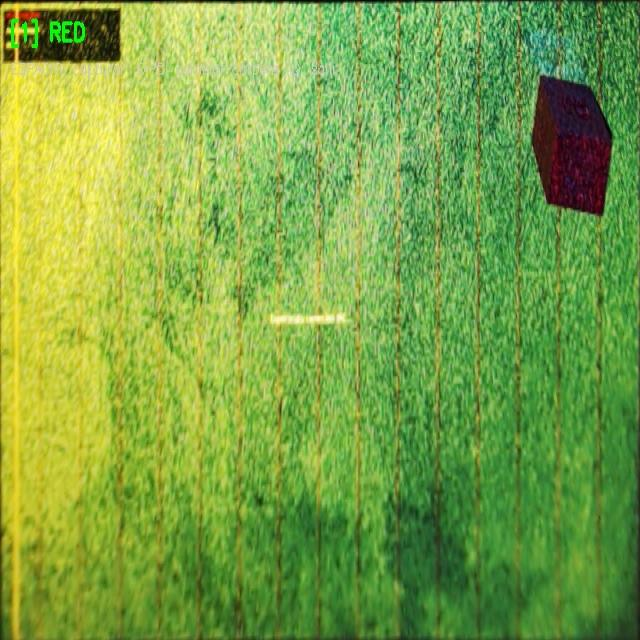red: (532, 76, 611, 215)
